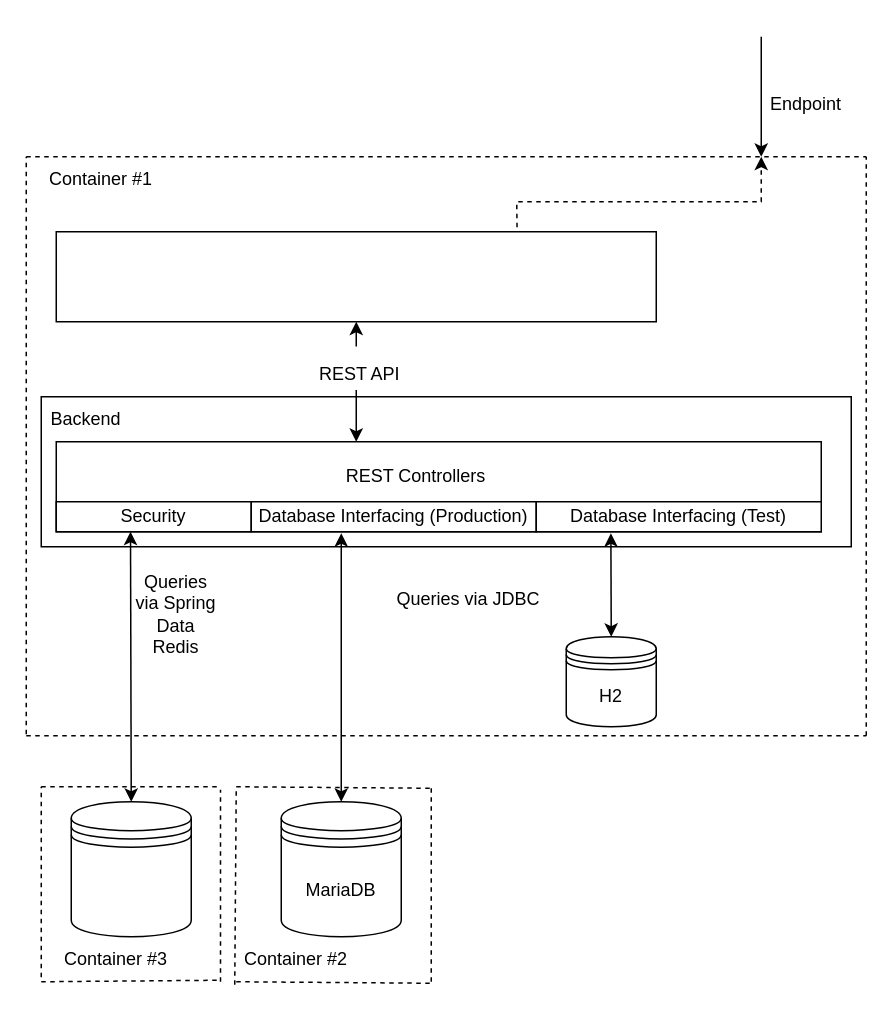
This 894x1014 diagram has some shape labels left out. Each missing label, with the centre of its shape:
Front-end: the point at 355,276
redis-server: the point at 130,868
